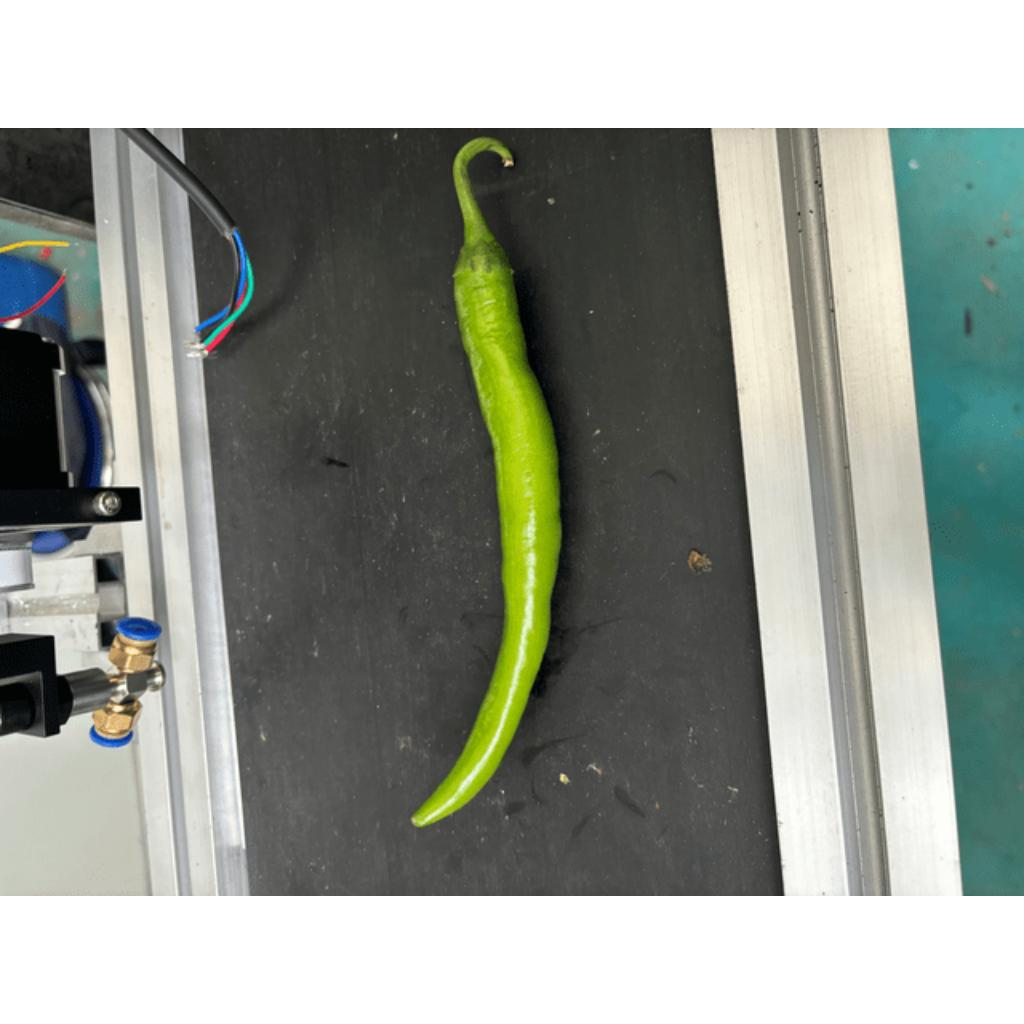chili: (401, 232, 564, 827)
